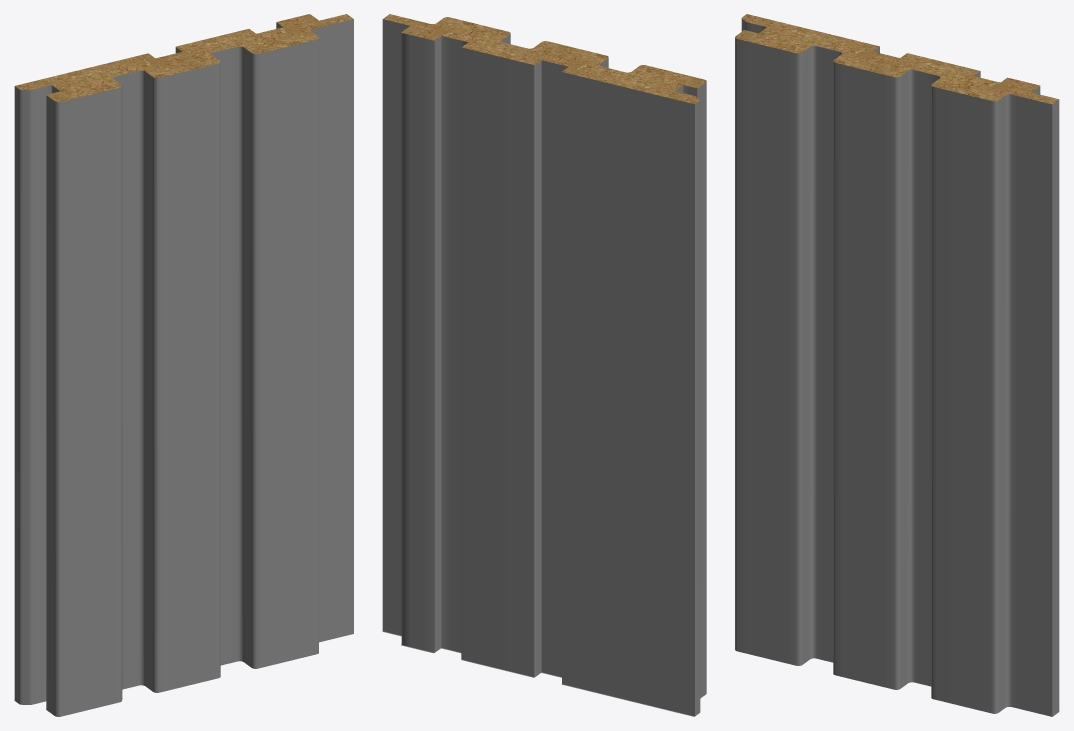
The model's file is atlas.glb.
The picture shows the model from 3 angles, left to right: view 1: azimuth 30°, elevation 25°; view 2: azimuth 150°, elevation 25°; view 3: azimuth 330°, elevation 25°; orthographic projection.
Parts seen in each view (by area): view 1: root; view 2: root; view 3: root.
Boxes of the visible parts, x1,y1,x2,y2 form: root: [14, 14, 353, 716]; root: [382, 14, 706, 716]; root: [735, 14, 1059, 716].
Size of the model in its own units: 0.12 by 0.2183 by 0.0184.
2 materials, 1 textured.
